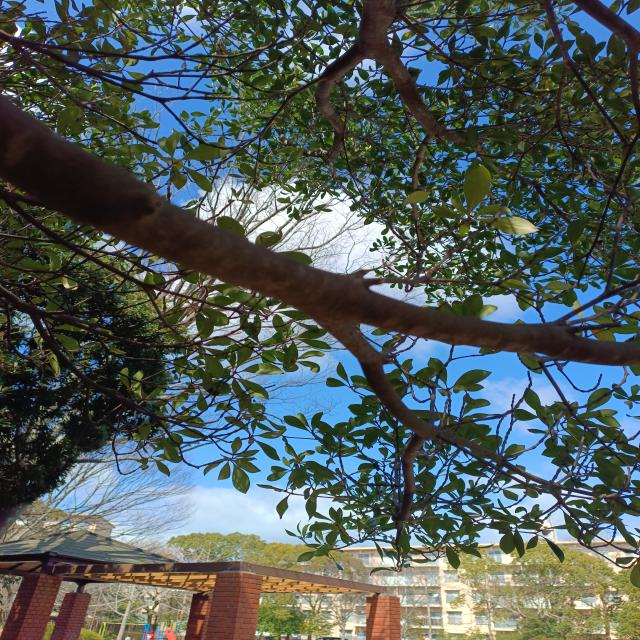Branch: (0, 93, 638, 366)
Twig: (312, 315, 595, 494), (387, 435, 431, 518)
